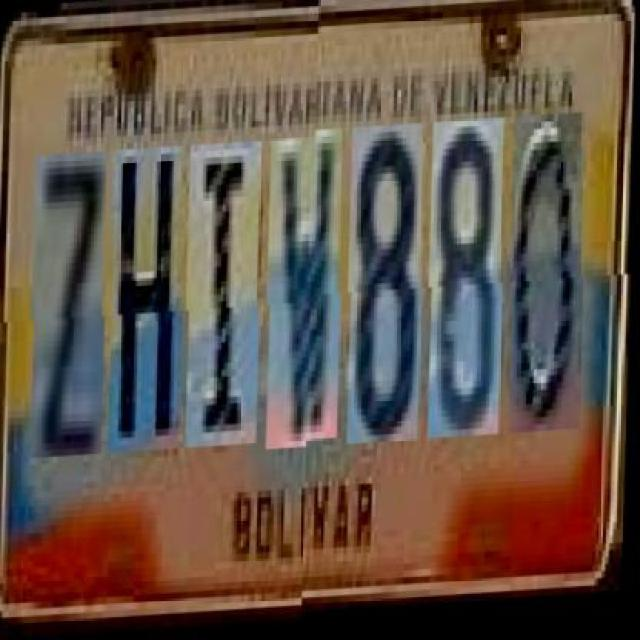8: (349, 136, 428, 456), (430, 132, 508, 452)
h: (110, 148, 188, 455)
i: (188, 143, 266, 451)
o: (511, 128, 589, 448)
w: (268, 139, 347, 453)
z: (33, 152, 112, 459)
